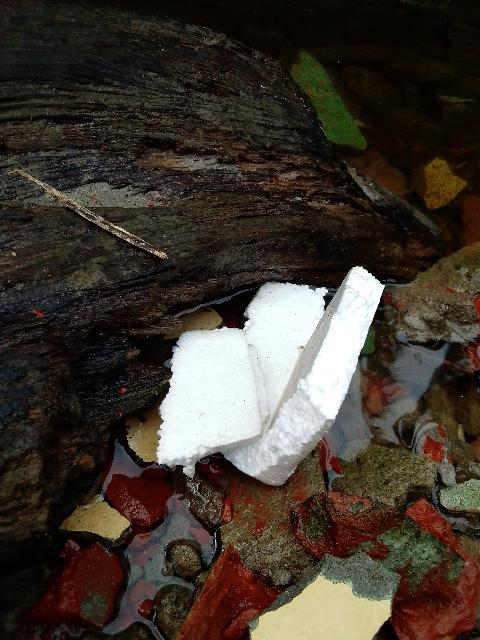cocksheet: (141, 220, 393, 524)
